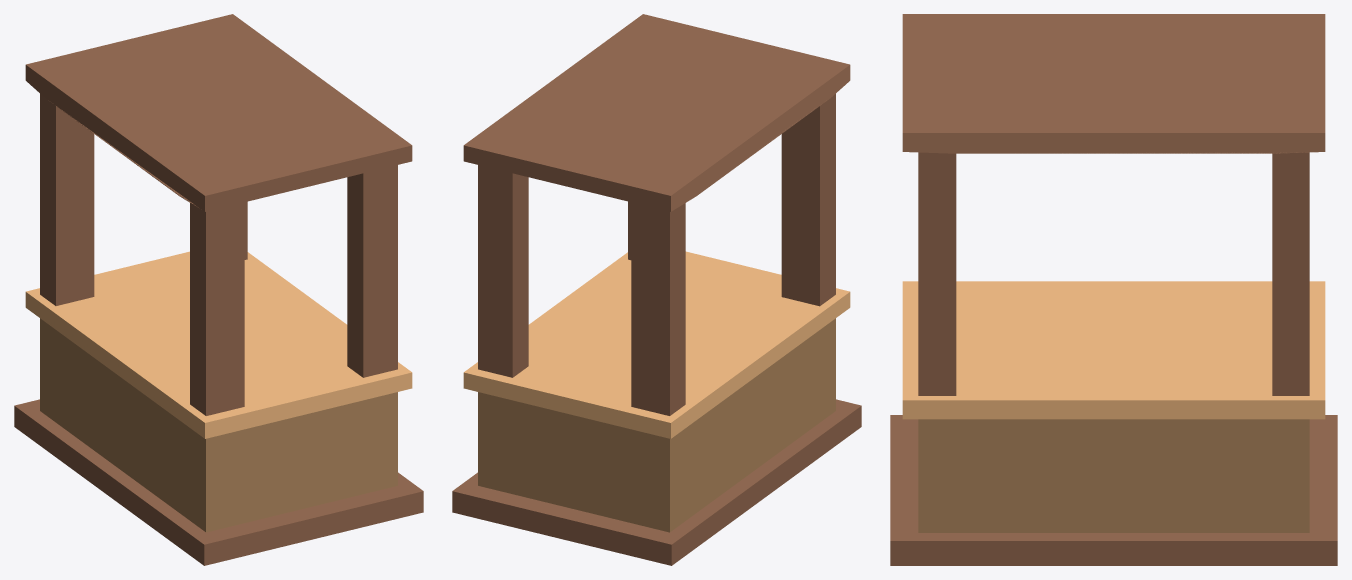
File: tr_stall_v2.fbx
3 renders of one model, left to right at view 1: azimuth 30°, elevation 25°; view 2: azimuth 150°, elevation 25°; view 3: azimuth 270°, elevation 25°, orthographic. The views are drawn at different scales.
Parts seen in each view (by area): view 1: Cube; view 2: Cube; view 3: Cube.
Boxes of the visible parts, x1=… form: Cube: x1=14, y1=14, x2=423, y2=565; Cube: x1=452, y1=14, x2=861, y2=565; Cube: x1=890, y1=14, x2=1337, y2=565.
Bounding box in the file's own units: 458 × 727 × 687.
